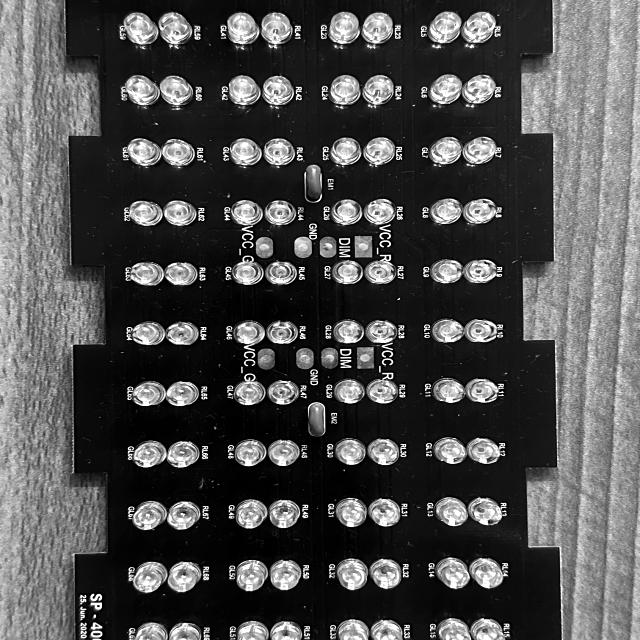EMC filter: (306, 164, 322, 201), (308, 403, 324, 436)
led: (69, 583, 110, 640), (155, 10, 194, 46), (224, 12, 261, 46), (461, 11, 497, 45), (122, 10, 158, 44), (432, 558, 470, 590), (469, 556, 504, 590), (132, 561, 168, 594), (426, 11, 463, 43), (332, 496, 367, 529), (159, 75, 194, 108), (234, 498, 270, 530), (259, 12, 295, 44), (335, 557, 369, 590), (361, 11, 395, 44), (328, 11, 361, 45), (426, 74, 462, 105), (462, 197, 500, 226), (168, 562, 202, 594), (234, 559, 268, 591), (434, 495, 468, 527), (125, 73, 159, 105), (267, 559, 302, 590), (131, 440, 167, 470), (126, 137, 162, 167), (465, 134, 497, 167), (468, 496, 502, 527), (168, 500, 202, 531), (329, 136, 364, 166), (165, 379, 201, 408), (163, 320, 199, 349), (263, 75, 295, 107), (330, 74, 362, 106), (368, 497, 401, 528), (165, 439, 199, 469), (131, 501, 166, 530), (428, 136, 463, 165), (131, 380, 167, 408), (263, 200, 299, 228), (370, 559, 402, 590), (269, 498, 300, 530), (229, 74, 261, 105), (465, 74, 497, 105), (467, 435, 500, 465), (363, 76, 396, 106), (230, 380, 268, 406), (165, 259, 199, 288), (428, 197, 462, 226), (162, 137, 196, 166), (363, 198, 398, 226), (364, 136, 396, 166), (233, 439, 266, 468), (467, 376, 500, 405), (266, 438, 300, 466), (131, 321, 167, 347), (434, 377, 466, 406), (230, 137, 262, 166), (432, 436, 465, 464), (262, 138, 295, 166), (464, 258, 498, 285), (332, 438, 367, 464), (130, 199, 162, 227), (231, 199, 264, 226), (264, 319, 298, 345), (231, 260, 265, 286), (471, 615, 506, 640), (130, 262, 166, 286), (464, 319, 498, 344), (368, 439, 399, 466), (268, 379, 300, 405), (430, 258, 462, 284), (434, 617, 470, 640), (366, 379, 399, 404), (364, 319, 397, 344), (431, 319, 465, 343), (366, 260, 397, 286), (165, 199, 196, 225), (268, 260, 298, 286), (331, 200, 363, 224), (336, 618, 370, 640), (231, 322, 265, 344), (334, 378, 365, 402), (333, 320, 364, 344), (332, 260, 363, 284), (131, 621, 170, 640), (372, 617, 404, 640), (235, 619, 269, 640), (270, 619, 303, 640), (168, 621, 204, 640)
